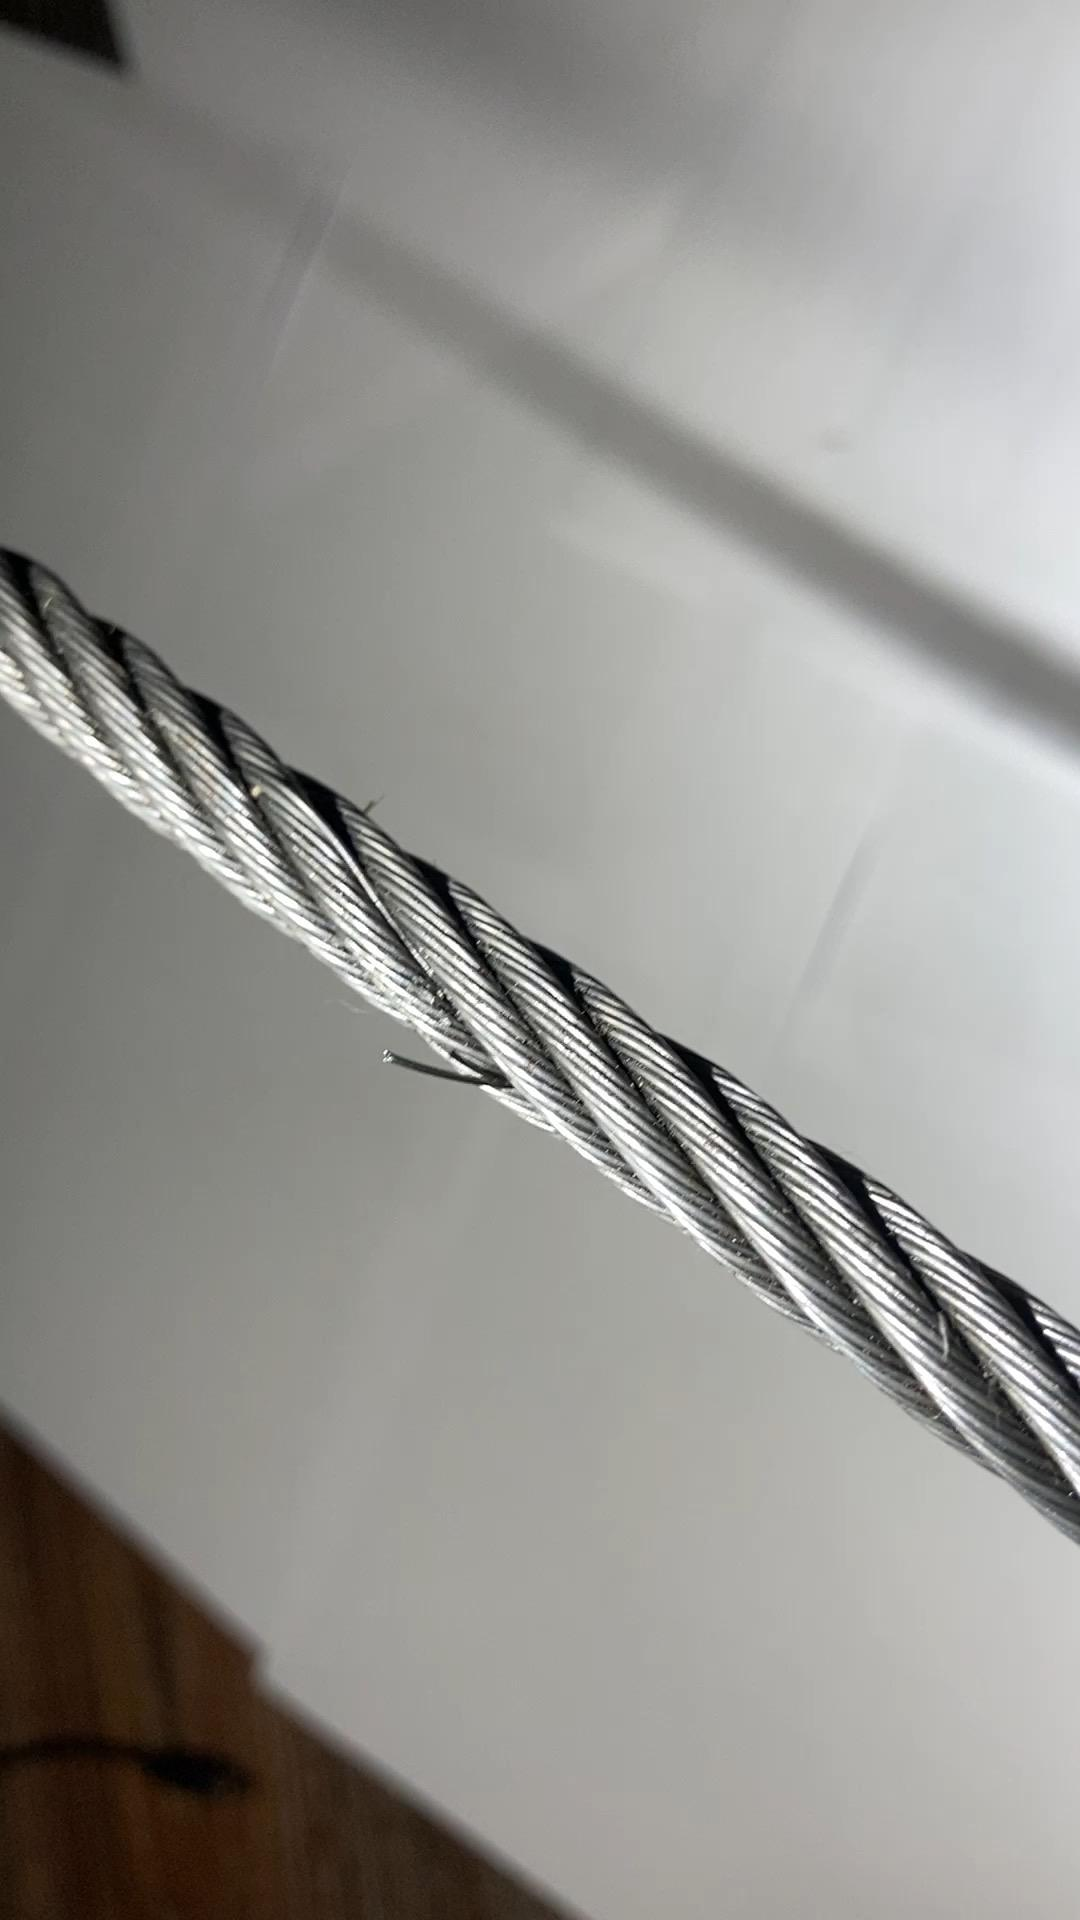break: (352, 990, 516, 1120)
